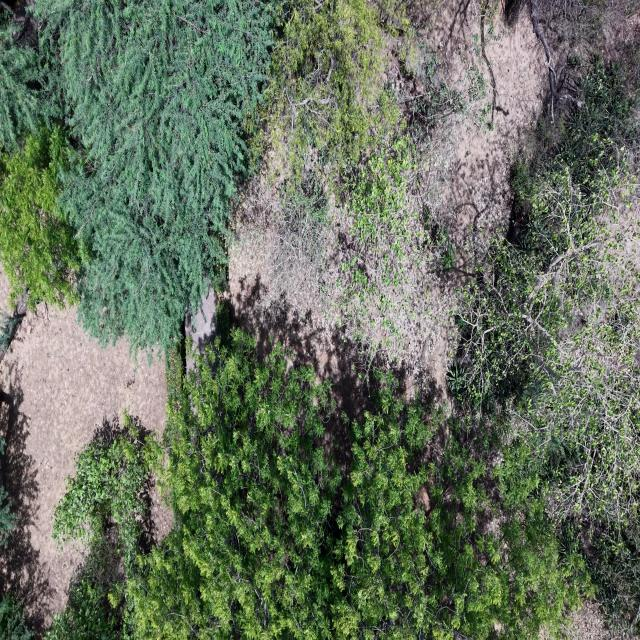DRY_AREA: (0, 305, 166, 629), (0, 305, 166, 628), (413, 0, 547, 236), (450, 1, 548, 231), (566, 601, 619, 639), (570, 601, 612, 639)
VEGETATION_TREE: (0, 0, 639, 639), (49, 329, 593, 639), (2, 1, 467, 357), (127, 329, 592, 639), (449, 60, 639, 579), (450, 63, 639, 584), (450, 61, 638, 578), (0, 1, 275, 350), (232, 1, 484, 360), (38, 0, 273, 348), (460, 67, 636, 409), (332, 11, 484, 364), (523, 69, 639, 525), (267, 0, 399, 185), (0, 2, 77, 308), (47, 413, 148, 639), (338, 137, 441, 356), (230, 168, 334, 312), (0, 125, 80, 309), (53, 415, 148, 569), (46, 524, 132, 639), (0, 2, 64, 152), (268, 170, 331, 303), (586, 520, 639, 634), (537, 0, 637, 55), (45, 577, 131, 639), (0, 424, 17, 543), (0, 292, 27, 361), (0, 593, 33, 639), (0, 473, 16, 543), (0, 312, 22, 358)
